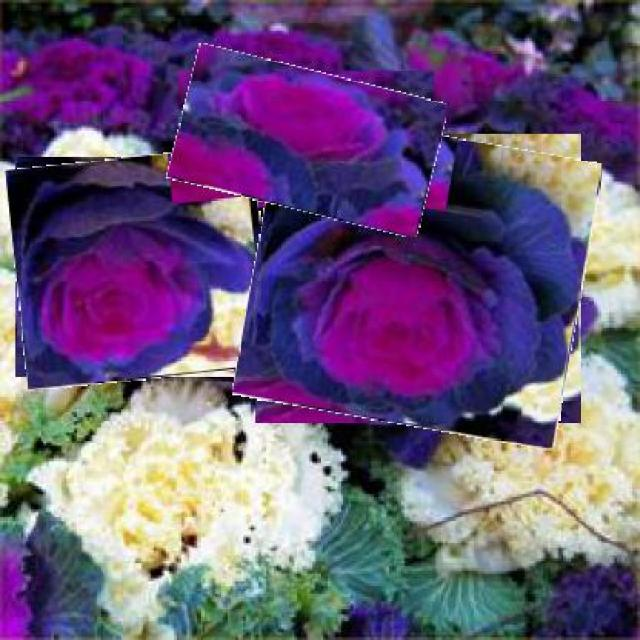Flower: (245, 121, 592, 438), (10, 151, 268, 385), (173, 57, 442, 225)
